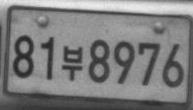1: (38, 36, 59, 80)
6: (161, 43, 185, 88)
7: (137, 42, 160, 86)
8: (87, 38, 111, 83), (12, 34, 35, 78)
9: (112, 40, 136, 85)
부: (62, 45, 83, 81)
